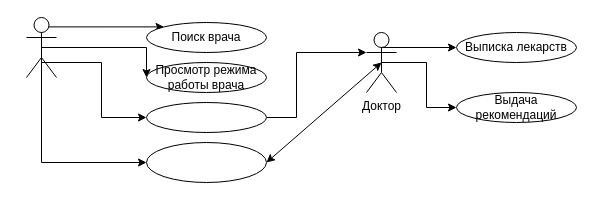
This 594x200 diagram has some shape labels left out. Each missing label, with the centre of its shape:
"Больной" belongs at point 41,47.
"Запись на прием" belongs at point 206,117.
"Прием у врача" belongs at point 206,162.
